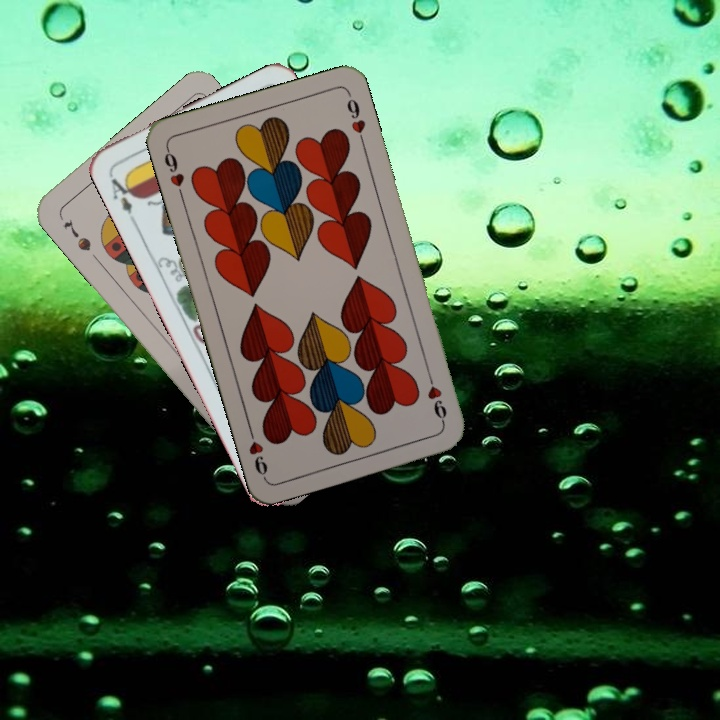EA: (105, 170, 140, 217)
H9: (160, 143, 187, 201), (423, 368, 450, 426)
S7: (59, 216, 94, 254)
